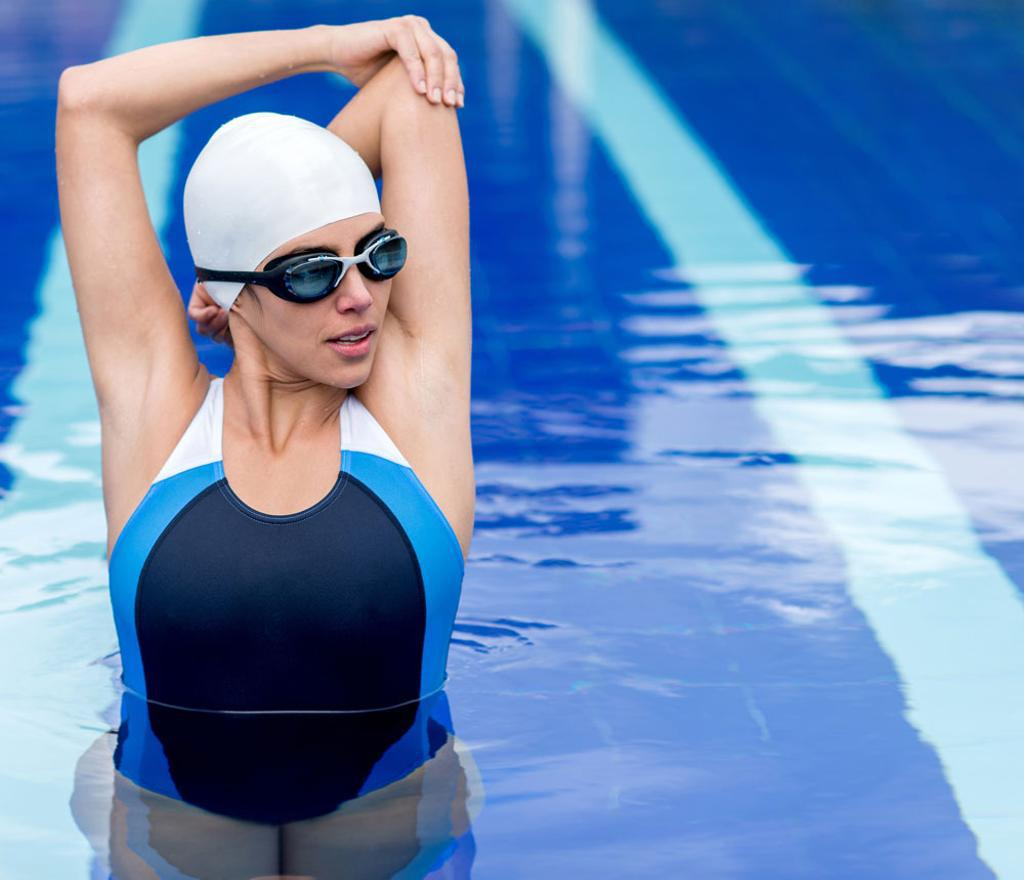face: (263, 191, 395, 393)
